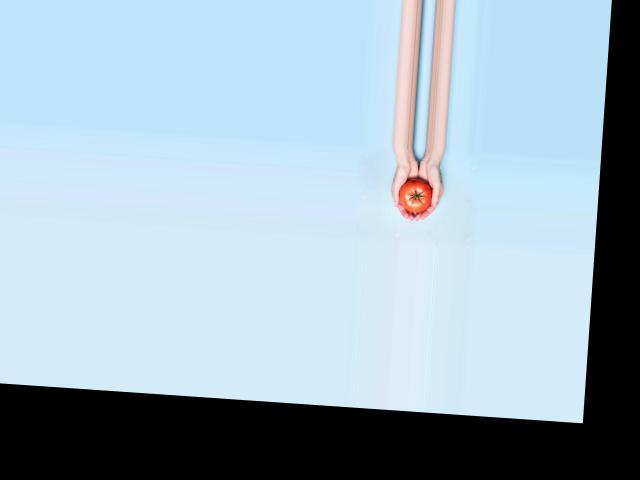tomato: (398, 177, 434, 213)
